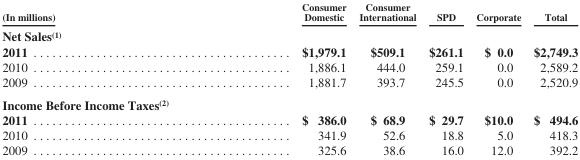table: (1, 0, 577, 156)
table column: (1, 0, 177, 156), (177, 0, 352, 156), (352, 0, 421, 156), (469, 0, 526, 156), (526, 0, 577, 156), (421, 0, 469, 156)
table column header: (1, 0, 577, 25)
table projected row header: (1, 92, 577, 111), (1, 25, 577, 43)
table row: (1, 0, 577, 25), (1, 92, 577, 111), (1, 25, 577, 43), (1, 74, 577, 92), (1, 58, 577, 74), (1, 111, 577, 127), (1, 43, 577, 58), (1, 127, 577, 142), (1, 142, 577, 156)
